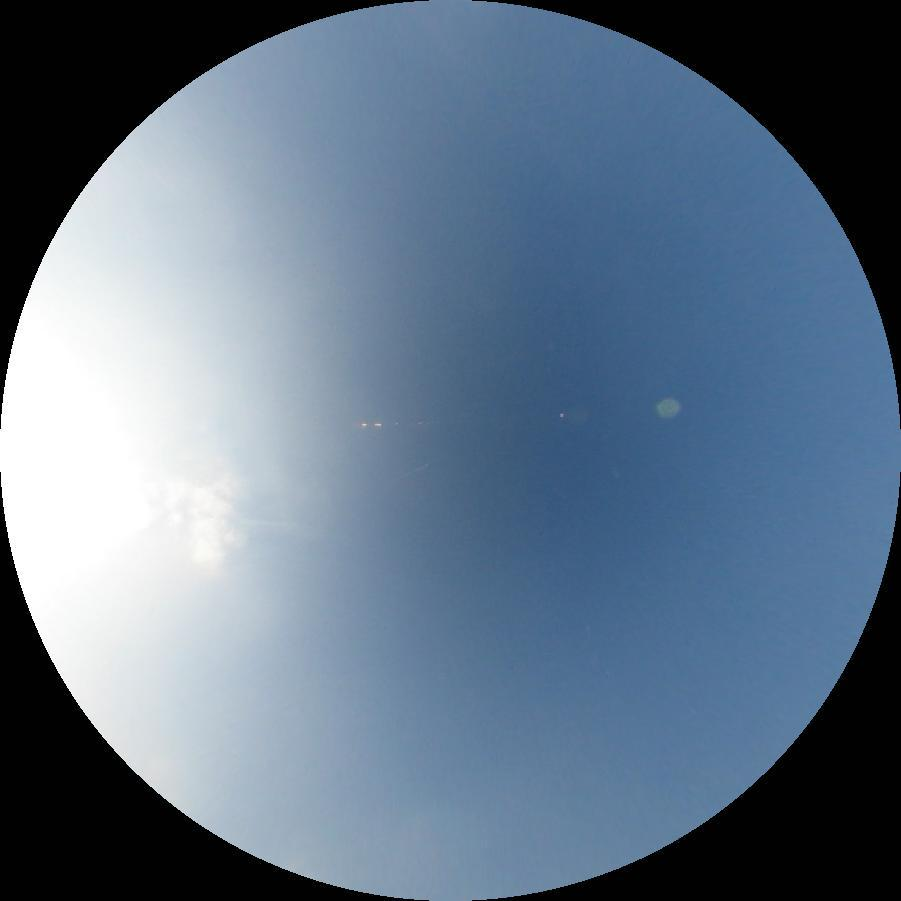contrail young: (389, 461, 429, 482)
